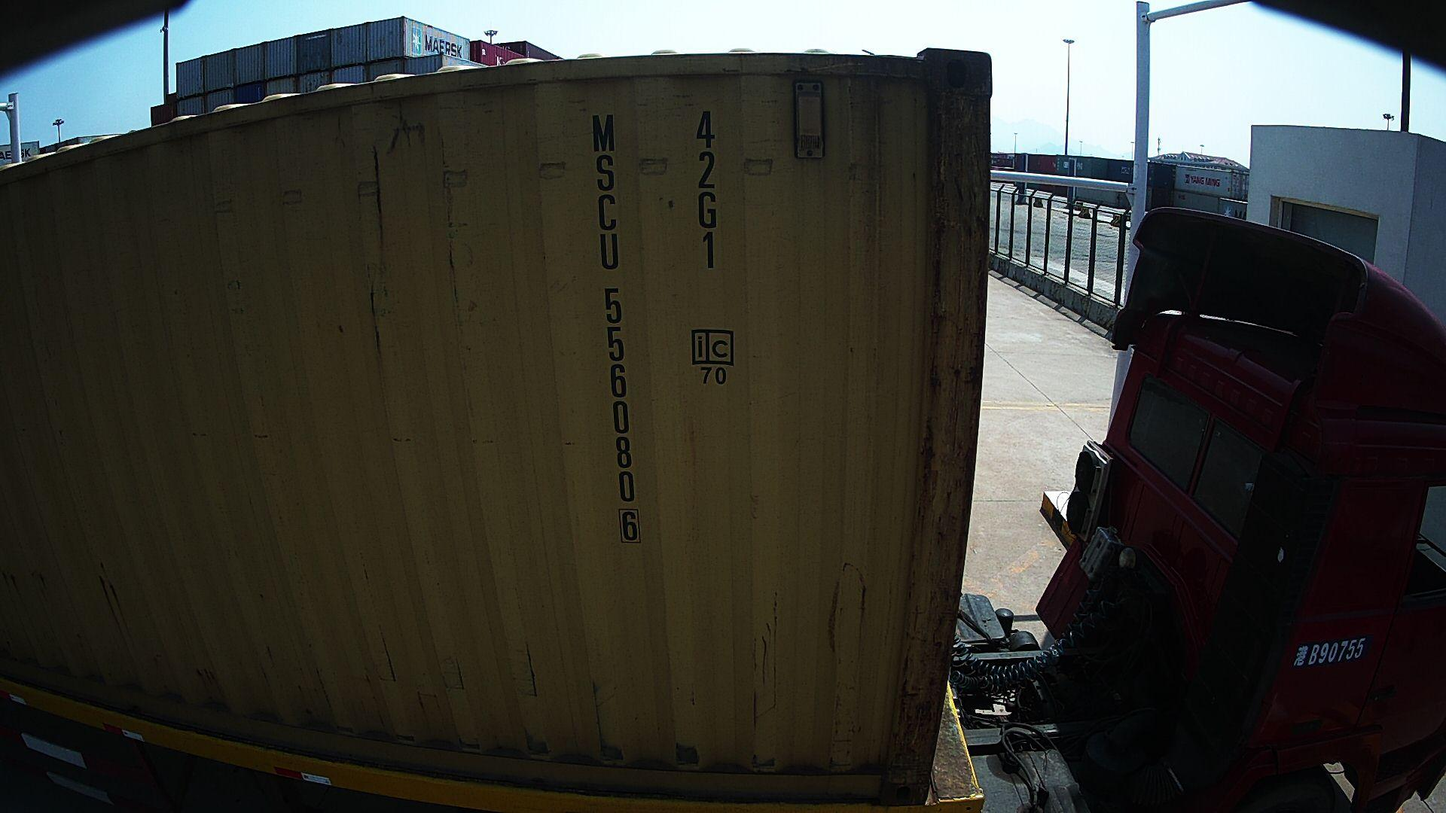container-numbers: (586, 109, 647, 548), (690, 106, 725, 274)
